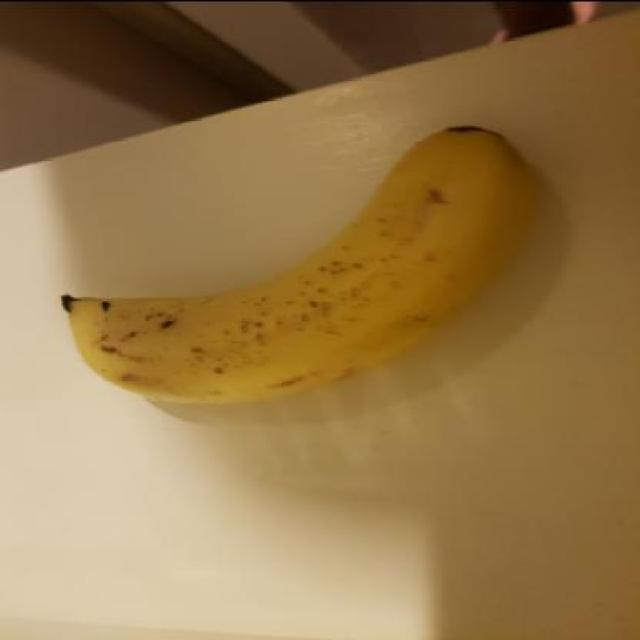Banana: (50, 120, 542, 406)
